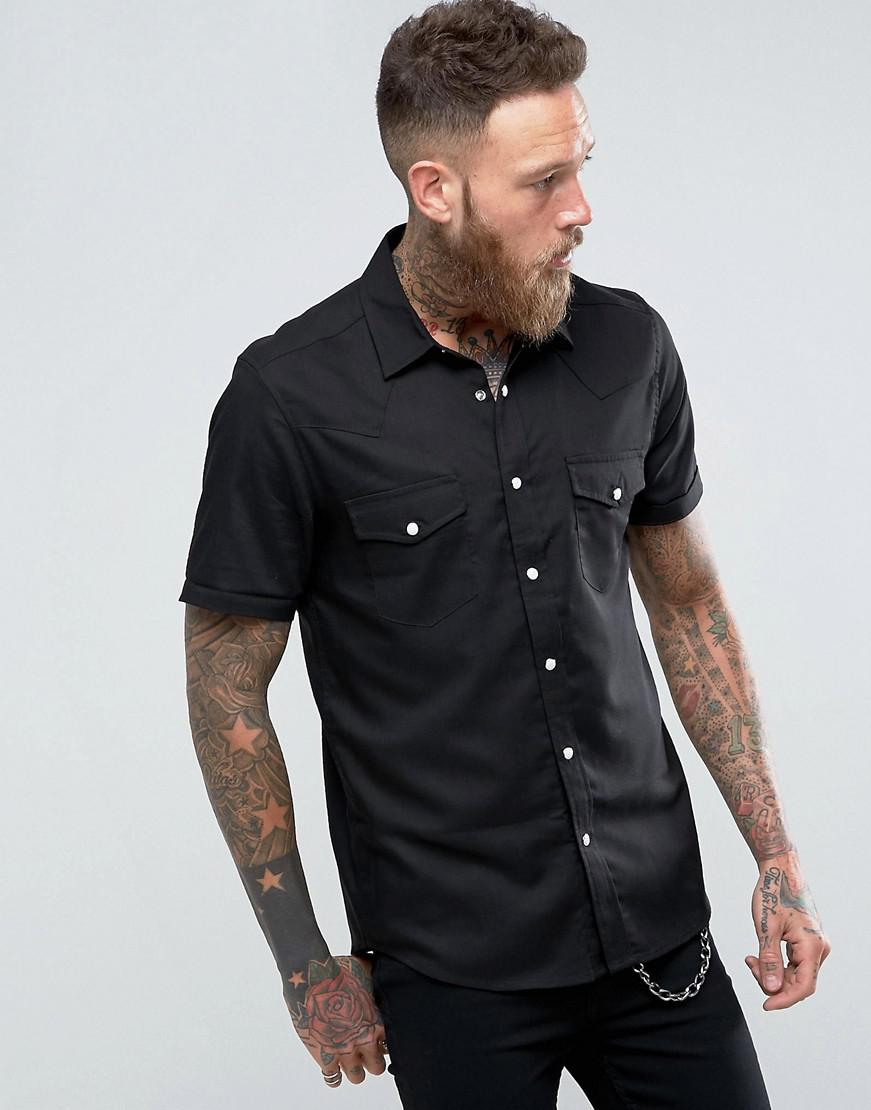teeshirt: (186, 246, 751, 959)
